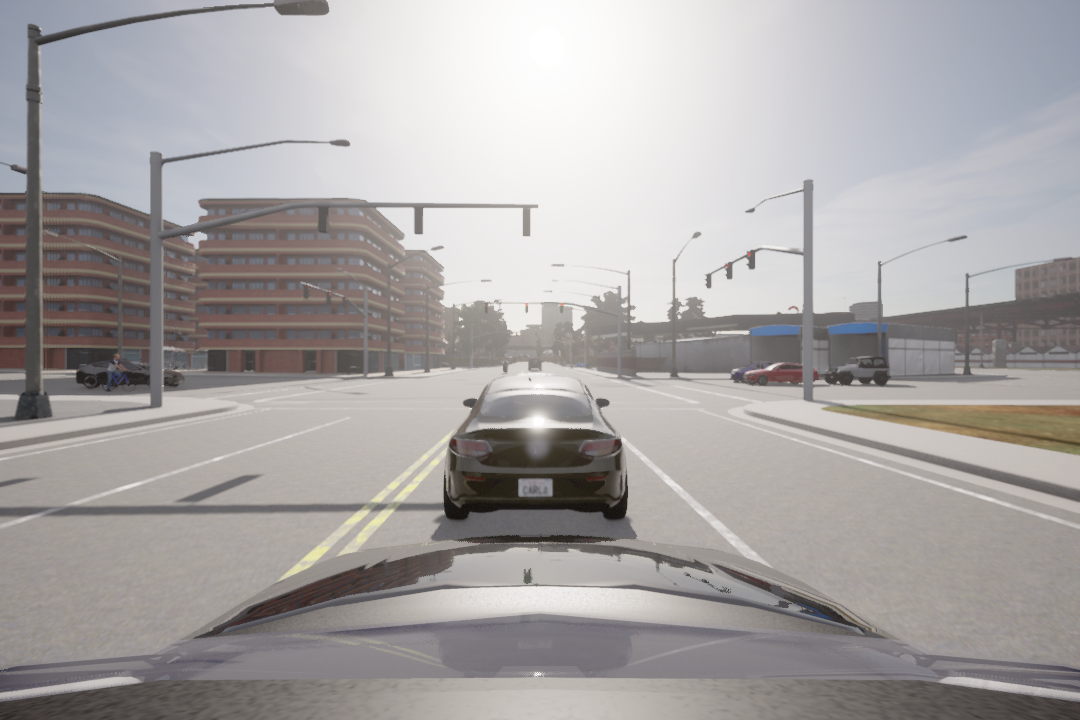TrafficLight: (722, 261, 735, 282), (745, 249, 756, 271), (704, 273, 714, 290)
